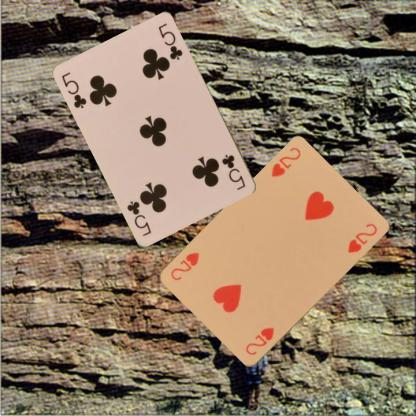2h: (269, 145, 302, 179), (242, 325, 276, 357)
5c: (59, 69, 88, 110), (219, 152, 247, 192)
